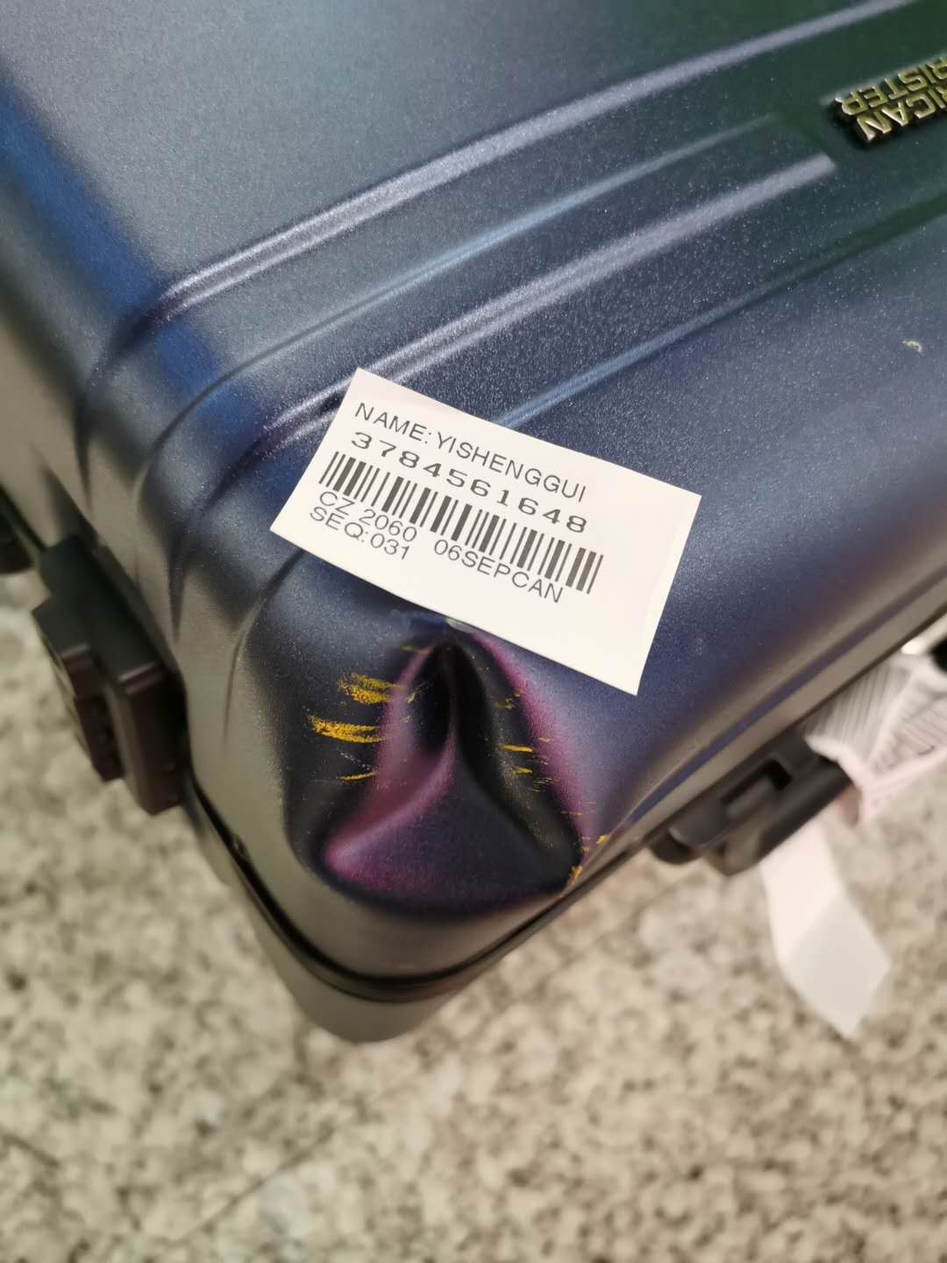rupture: (303, 627, 598, 919)
